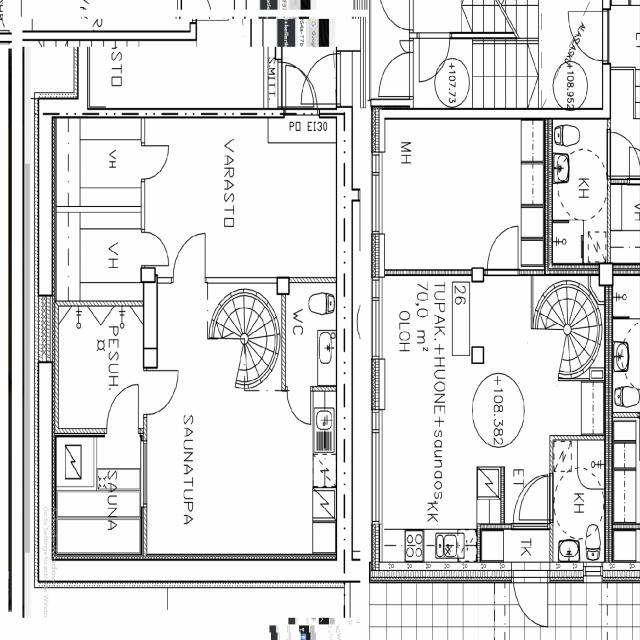door: (513, 561, 547, 631), (513, 474, 547, 529), (285, 64, 317, 118), (107, 384, 138, 437), (173, 232, 204, 283), (518, 475, 553, 519), (487, 226, 517, 275), (143, 371, 177, 414), (141, 145, 169, 179), (141, 232, 168, 265), (287, 385, 310, 423)
